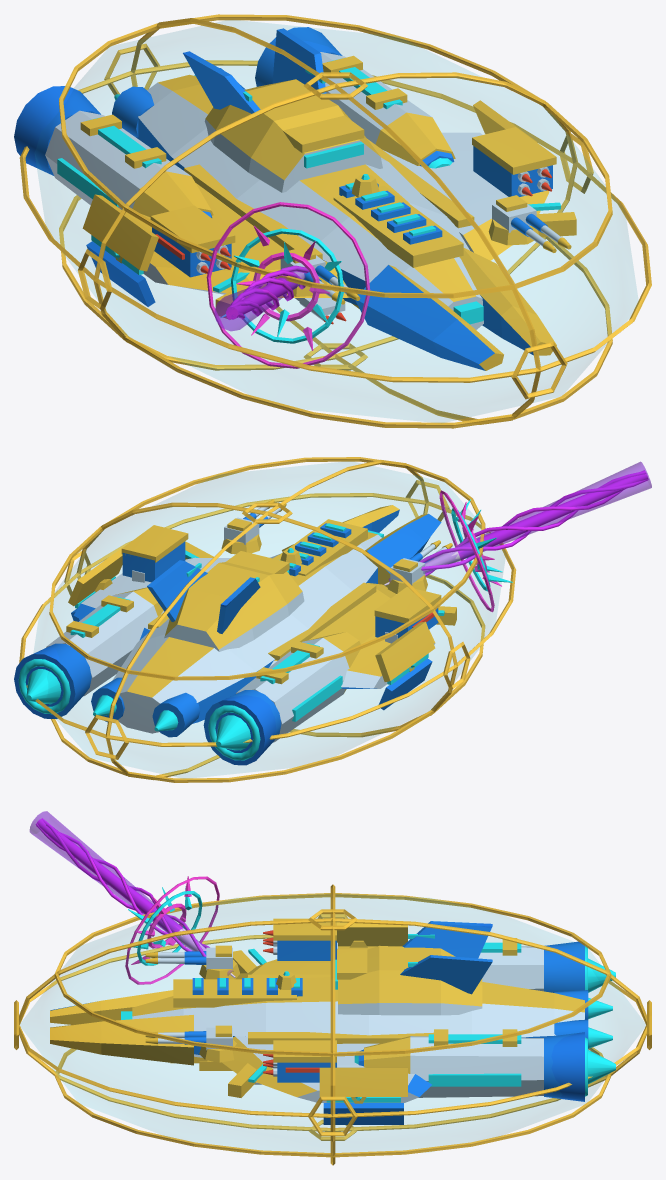
Rendered from horizon_tachyon_cruiser_pierced.obj.
3 views of the same model, one above another, from view 1: azimuth 30°, elevation 25°; view 2: azimuth 150°, elevation 25°; view 3: azimuth 270°, elevation 25° (orthographic). The views are drawn at different scales.
Parts seen in each view (by area): view 1: Cruiser_Reinforced_Particle_Shield, Cruiser_Reinforced_Hull_Core, Cruiser_Particle_Shield_HexReinforcement, Cruiser_Cyan_Engine_Nacelles, Cruiser_Command_Bridge_And_Spine, Cruiser_Forward_Swept_Wings_And_Armor, Tachyon_Lance_Piercing_FX, Cruiser_Missile_Mounts, Cruiser_Laser_Mounts; view 2: Cruiser_Reinforced_Particle_Shield, Cruiser_Cyan_Engine_Nacelles, Cruiser_Particle_Shield_HexReinforcement, Cruiser_Reinforced_Hull_Core, Cruiser_Command_Bridge_And_Spine, Cruiser_Forward_Swept_Wings_And_Armor, Tachyon_Lance_Piercing_FX, Cruiser_Missile_Mounts, Cruiser_Laser_Mounts; view 3: Cruiser_Reinforced_Particle_Shield, Cruiser_Reinforced_Hull_Core, Cruiser_Particle_Shield_HexReinforcement, Cruiser_Cyan_Engine_Nacelles, Cruiser_Command_Bridge_And_Spine, Cruiser_Forward_Swept_Wings_And_Armor, Tachyon_Lance_Piercing_FX, Cruiser_Missile_Mounts, Cruiser_Laser_Mounts.
Part boxes in pixels (<box>): Cruiser_Reinforced_Particle_Shield: <box>35,21,637,422</box>; Cruiser_Reinforced_Hull_Core: <box>136,74,556,370</box>; Cruiser_Particle_Shield_HexReinforcement: <box>19,14,651,428</box>; Cruiser_Cyan_Engine_Nacelles: <box>14,27,455,217</box>; Cruiser_Command_Bridge_And_Spine: <box>183,28,442,244</box>; Cruiser_Forward_Swept_Wings_And_Armor: <box>82,100,576,319</box>; Tachyon_Lance_Piercing_FX: <box>206,202,370,368</box>; Cruiser_Missile_Mounts: <box>150,127,556,324</box>; Cruiser_Laser_Mounts: <box>280,195,571,304</box>; Cruiser_Reinforced_Particle_Shield: <box>34,462,504,778</box>; Cruiser_Cyan_Engine_Nacelles: <box>14,587,360,765</box>; Cruiser_Particle_Shield_HexReinforcement: <box>19,457,516,782</box>; Cruiser_Reinforced_Hull_Core: <box>112,505,441,733</box>; Cruiser_Command_Bridge_And_Spine: <box>147,523,351,651</box>; Cruiser_Forward_Swept_Wings_And_Armor: <box>68,541,456,710</box>; Tachyon_Lance_Piercing_FX: <box>384,461,651,612</box>; Cruiser_Missile_Mounts: <box>121,525,441,643</box>; Cruiser_Laser_Mounts: <box>221,499,452,593</box>; Cruiser_Reinforced_Particle_Shield: <box>20,894,645,1152</box>; Cruiser_Reinforced_Hull_Core: <box>50,974,584,1070</box>; Cruiser_Particle_Shield_HexReinforcement: <box>14,884,651,1165</box>; Cruiser_Cyan_Engine_Nacelles: <box>354,938,615,1101</box>; Cruiser_Command_Bridge_And_Spine: <box>192,921,492,1015</box>; Cruiser_Forward_Swept_Wings_And_Armor: <box>222,922,431,1124</box>; Tachyon_Lance_Piercing_FX: <box>29,811,235,984</box>; Cruiser_Missile_Mounts: <box>254,918,337,1084</box>; Cruiser_Laser_Mounts: <box>145,945,240,1063</box>.
Size of the model in its own units: 4.77 by 2.31 by 6.2.
